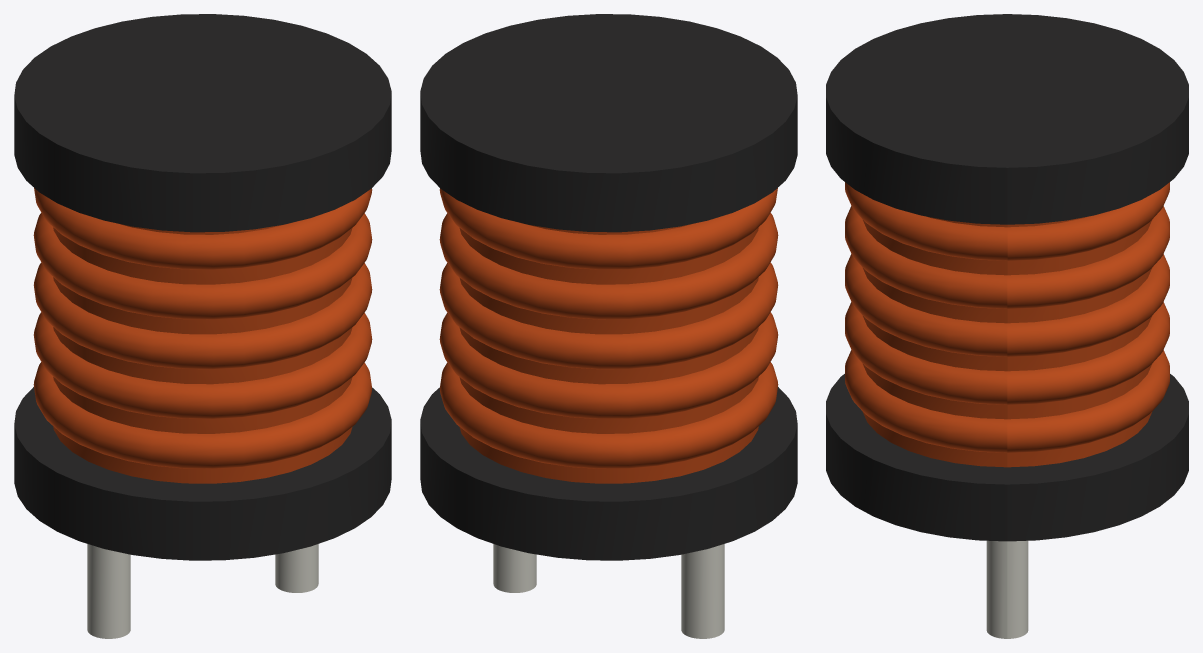
The model's file is kc-l_radial_d8.7mm_p5.00mm_fastron_07hcp.glb.
The picture shows the model from 3 angles, left to right: view 1: azimuth 30°, elevation 25°; view 2: azimuth 150°, elevation 25°; view 3: azimuth 270°, elevation 25°; orthographic projection. The views are drawn at different scales.
Visible parts, largest first — view 1: 0_0_0_0, 0.4166666666666667_0.08333333333333333_0_0, 0.6666666666666666_0.6666666666666666_0.5833333333333334_0.8; view 2: 0_0_0_0, 0.4166666666666667_0.08333333333333333_0_0, 0.6666666666666666_0.6666666666666666_0.5833333333333334_0.8; view 3: 0_0_0_0, 0.4166666666666667_0.08333333333333333_0_0, 0.6666666666666666_0.6666666666666666_0.5833333333333334_0.8.
Boxes of the visible parts, <box> form: 0_0_0_0: <box>14,14,391,560</box>; 0.4166666666666667_0.08333333333333333_0_0: <box>33,188,372,483</box>; 0.6666666666666666_0.6666666666666666_0.5833333333333334_0.8: <box>87,544,318,638</box>; 0_0_0_0: <box>420,14,797,560</box>; 0.4166666666666667_0.08333333333333333_0_0: <box>439,188,778,483</box>; 0.6666666666666666_0.6666666666666666_0.5833333333333334_0.8: <box>493,544,724,638</box>; 0_0_0_0: <box>826,14,1188,541</box>; 0.4166666666666667_0.08333333333333333_0_0: <box>845,182,1169,467</box>; 0.6666666666666666_0.6666666666666666_0.5833333333333334_0.8: <box>986,540,1028,638</box>.
Size of the model in its own units: 0.87 by 1.31 by 0.8671.
